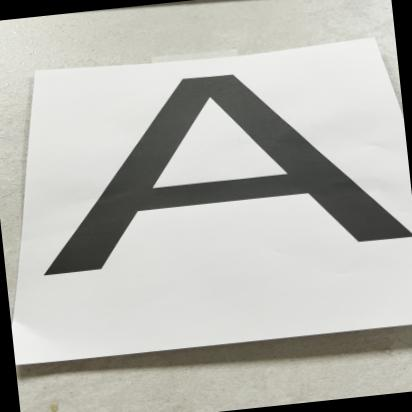seat: (43, 64, 412, 344)
